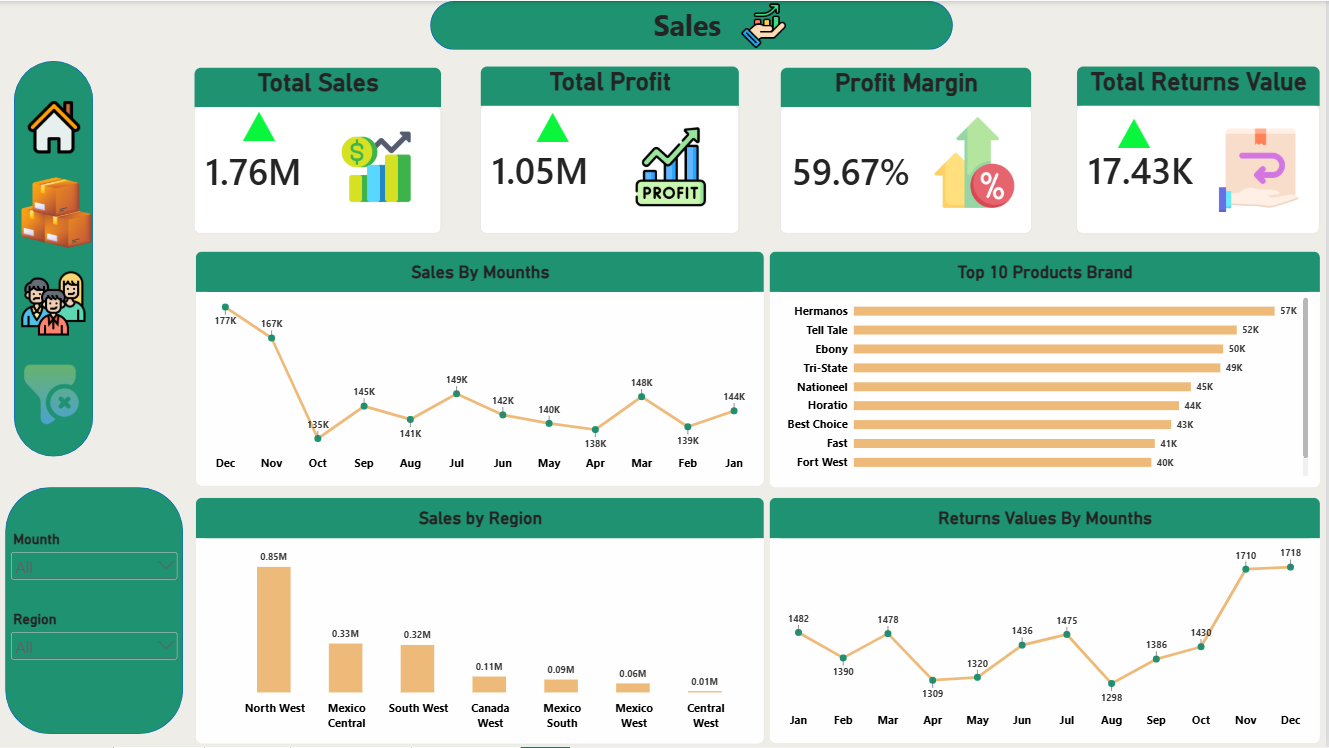

The page's visual inventory and layout, read from the dashboard file:
{"tool":"powerbi","page":{"name":"Sales","canvas":[1920,1080],"ordinal":1},"visuals":[{"type":"shape","box":[9.3,703.7,257.4,357.4],"z":0},{"type":"shape","box":[624.3,0,756.4,70.6],"z":1000},{"type":"cardVisual","title":"Total Sales","fields":{"Data":["_Table.Total Sales"]},"box":[283,96.2,358.5,241.5],"z":2000},{"type":"cardVisual","title":"Total Profit","fields":{"Data":["_Table.Total Gross Profit"]},"box":[696.2,94.3,375.5,243.4],"z":3000},{"type":"cardVisual","title":"Profit Margin","fields":{"Data":["_Table.Profit Margin %"]},"box":[1130.2,96.2,364.2,241.5],"z":4000},{"type":"image","box":[23.6,514.5,123.6,103.6],"z":5000},{"type":"lineChart","title":"Sales By Mounths","fields":{"Category":["Calendar (2).Mounth Name"],"Y":["_Table.Total Sales"]},"box":[283.3,361.1,824.1,340.7],"z":6000},{"type":"actionButton","box":[763.6,0,465.1,63.3],"z":7000},{"type":"columnChart","title":"Sales by Region","fields":{"Category":["Region.sales_region"],"Y":["_Table.Total Sales"]},"box":[283.3,718.5,824.1,357.4],"z":8000},{"type":"clusteredBarChart","title":"Top 10 Products Brand","fields":{"Category":["Products.product_brand"],"Y":["_Table.Total Sales"]},"box":[1115.1,362.3,798.1,343.4],"z":9000},{"type":"shape","box":[22.4,87.3,114.5,572.7],"z":10000},{"type":"image","box":[31.4,361.8,95.9,152],"z":12000},{"type":"image","box":[42.4,103.6,76,159.3],"z":13000},{"type":"image","box":[1030.9,0,150.9,70.9],"z":14000},{"type":"image","box":[486.8,164.2,118.2,150.9],"z":15000},{"type":"image","box":[884.9,183,174.5,114.5],"z":16000},{"type":"image","box":[1281.1,167.9,261.8,130.9],"z":17000},{"type":"image","box":[22.4,480,103.6,180],"z":18000},{"type":"slicer","fields":{"Values":["Calendar (2).Mounth Name"]},"box":[13,766.7,250.9,92.7],"z":19000},{"type":"slicer","fields":{"Values":["Region.sales_region"]},"box":[13,883.3,250.9,92.7],"z":20000},{"type":"cardVisual","title":"Total Returns Value","fields":{"Data":["_table.Returns Value"]},"box":[1560.4,94.3,352.7,243.6],"z":21000},{"type":"lineChart","title":"Returns Values By Mounths","fields":{"Category":["Calendar (2).Mounth Name"],"Y":["_table.Returns Value"]},"box":[1115.1,718.9,798.1,356.6],"z":22000},{"type":"image","box":[1752.8,184.9,139.6,120.8],"z":23000},{"type":"image","box":[32.1,205.7,101.9,200],"z":24000},{"type":"cardVisual","fields":{"Data":["_table.Arrow"]},"box":[334,64.2,128.3,231],"z":25000},{"type":"cardVisual","fields":{"Data":["_table.Profit Arrow"]},"box":[760.4,28.3,300,300],"z":25001},{"type":"cardVisual","fields":{"Data":["_table.Returns Arrow"]},"box":[1601.9,37.7,300,300],"z":25002}]}

Visuals, with their boxes in screenshot pixels (x1, y1, x2, y2), scaled from the page's 1920x1080 canvas onto the 1329x748 screenshot:
shape: select_region(6, 487, 185, 735)
shape: select_region(432, 0, 956, 49)
"Total Sales" cardVisual: select_region(196, 67, 444, 234)
"Total Profit" cardVisual: select_region(482, 65, 742, 234)
"Profit Margin" cardVisual: select_region(782, 67, 1034, 234)
image: select_region(16, 356, 102, 428)
"Sales By Mounths" lineChart: select_region(196, 250, 767, 486)
actionButton: select_region(529, 0, 850, 44)
"Sales by Region" columnChart: select_region(196, 498, 767, 745)
"Top 10 Products Brand" clusteredBarChart: select_region(772, 251, 1324, 489)
shape: select_region(16, 60, 95, 457)
image: select_region(22, 251, 88, 356)
image: select_region(29, 72, 82, 182)
image: select_region(714, 0, 818, 49)
image: select_region(337, 114, 419, 218)
image: select_region(613, 127, 733, 206)
image: select_region(887, 116, 1068, 207)
image: select_region(16, 332, 87, 457)
slicer - Calendar (2).Mounth Name: select_region(9, 531, 183, 595)
slicer - Region.sales_region: select_region(9, 612, 183, 676)
"Total Returns Value" cardVisual: select_region(1080, 65, 1324, 234)
"Returns Values By Mounths" lineChart: select_region(772, 498, 1324, 745)
image: select_region(1213, 128, 1310, 212)
image: select_region(22, 142, 93, 281)
cardVisual - _table.Arrow: select_region(231, 44, 320, 204)
cardVisual - _table.Profit Arrow: select_region(526, 20, 734, 227)
cardVisual - _table.Returns Arrow: select_region(1109, 26, 1316, 234)
